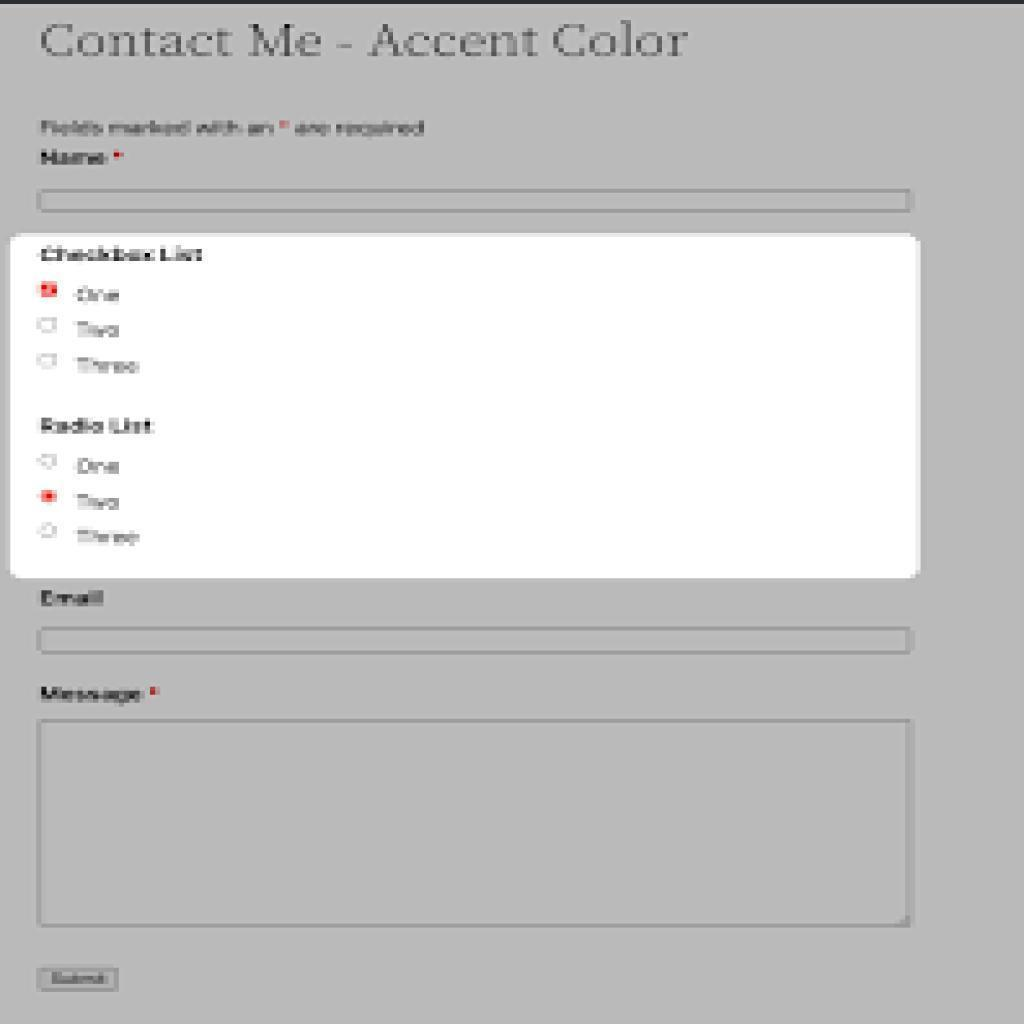button: (36, 966, 117, 991)
input: (37, 627, 914, 653), (37, 190, 909, 212)
label: (69, 525, 139, 550), (69, 355, 139, 378), (70, 281, 127, 307), (73, 317, 128, 343), (75, 454, 129, 478), (73, 491, 126, 514)
radio: (31, 520, 58, 541), (35, 312, 59, 334), (40, 277, 61, 302), (37, 452, 57, 474), (37, 485, 59, 504), (36, 352, 58, 370)
